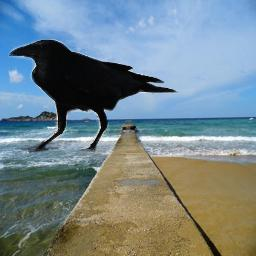Crow: (8, 39, 181, 154)
